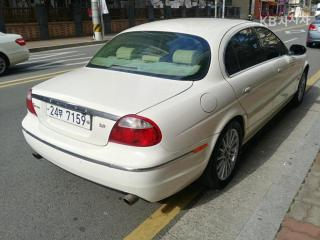1: (71, 112, 75, 122)
2: (49, 105, 55, 117)
4: (55, 106, 59, 118)
5: (75, 113, 82, 126)
7: (65, 110, 71, 122)
9: (80, 115, 86, 126)
plate: (45, 100, 96, 135)
부: (58, 108, 64, 119)
